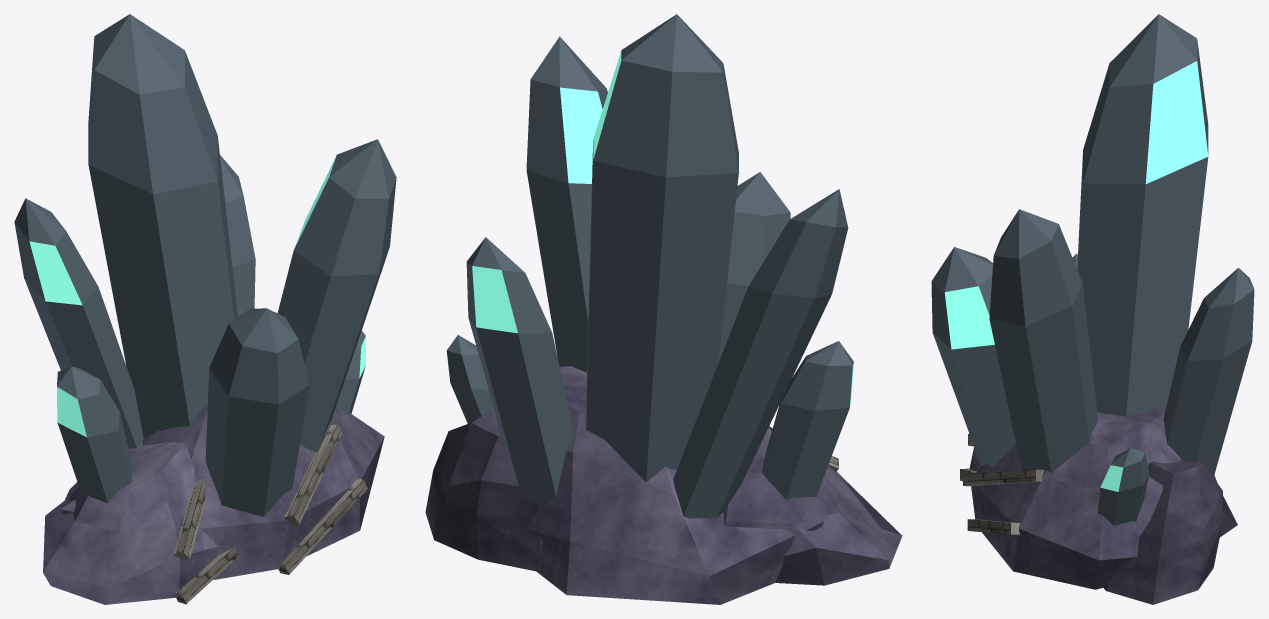
The model's file is cinder-crystal.glb.
3 renders of one model, left to right at view 1: azimuth 30°, elevation 25°; view 2: azimuth 150°, elevation 25°; view 3: azimuth 270°, elevation 25°, orthographic. The views are drawn at different scales.
Visible parts, largest first — view 1: cinder-crystal; view 2: cinder-crystal; view 3: cinder-crystal.
Part boxes in pixels (<box>): cinder-crystal: <box>14,14,396,604</box>; cinder-crystal: <box>425,14,902,604</box>; cinder-crystal: <box>931,14,1254,604</box>.
Bounding box in the file's own units: 1.91 × 2.54 × 1.52.
4 materials, 2 textured.
